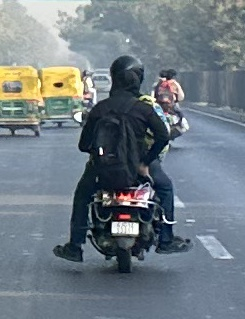BikeWithRider: (54, 50, 184, 273), (148, 65, 193, 145), (75, 67, 98, 111)
Helmet: (110, 54, 145, 88)
NoHelmet: (110, 68, 140, 102), (159, 65, 176, 84)
